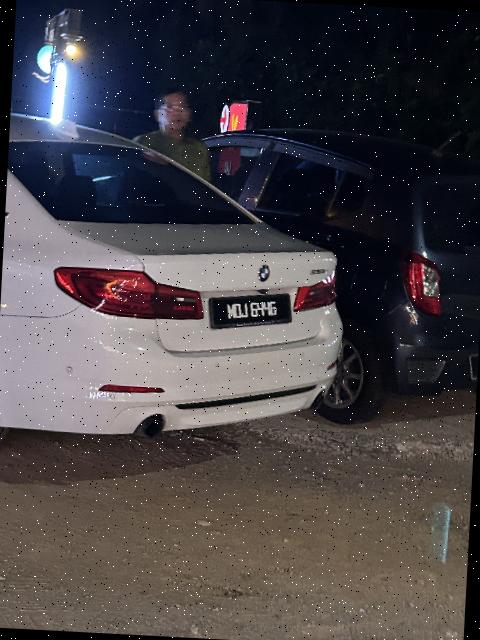License_Plate: (209, 291, 295, 339)
car: (1, 104, 363, 472)
